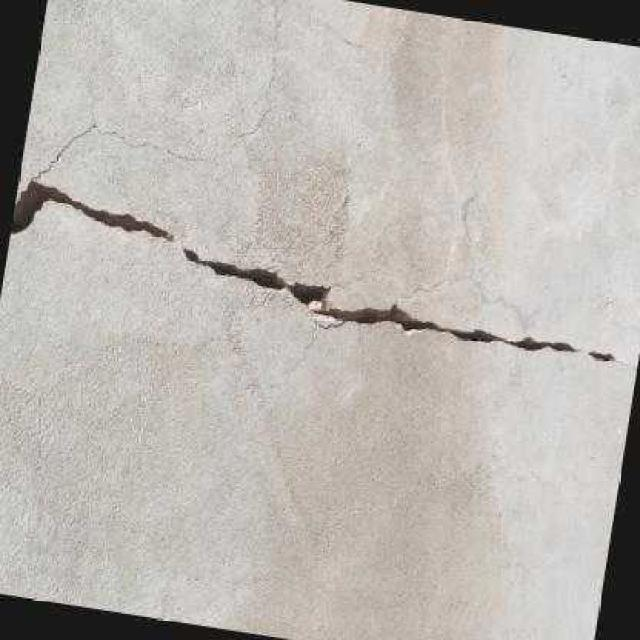D00: (10, 178, 637, 371)
